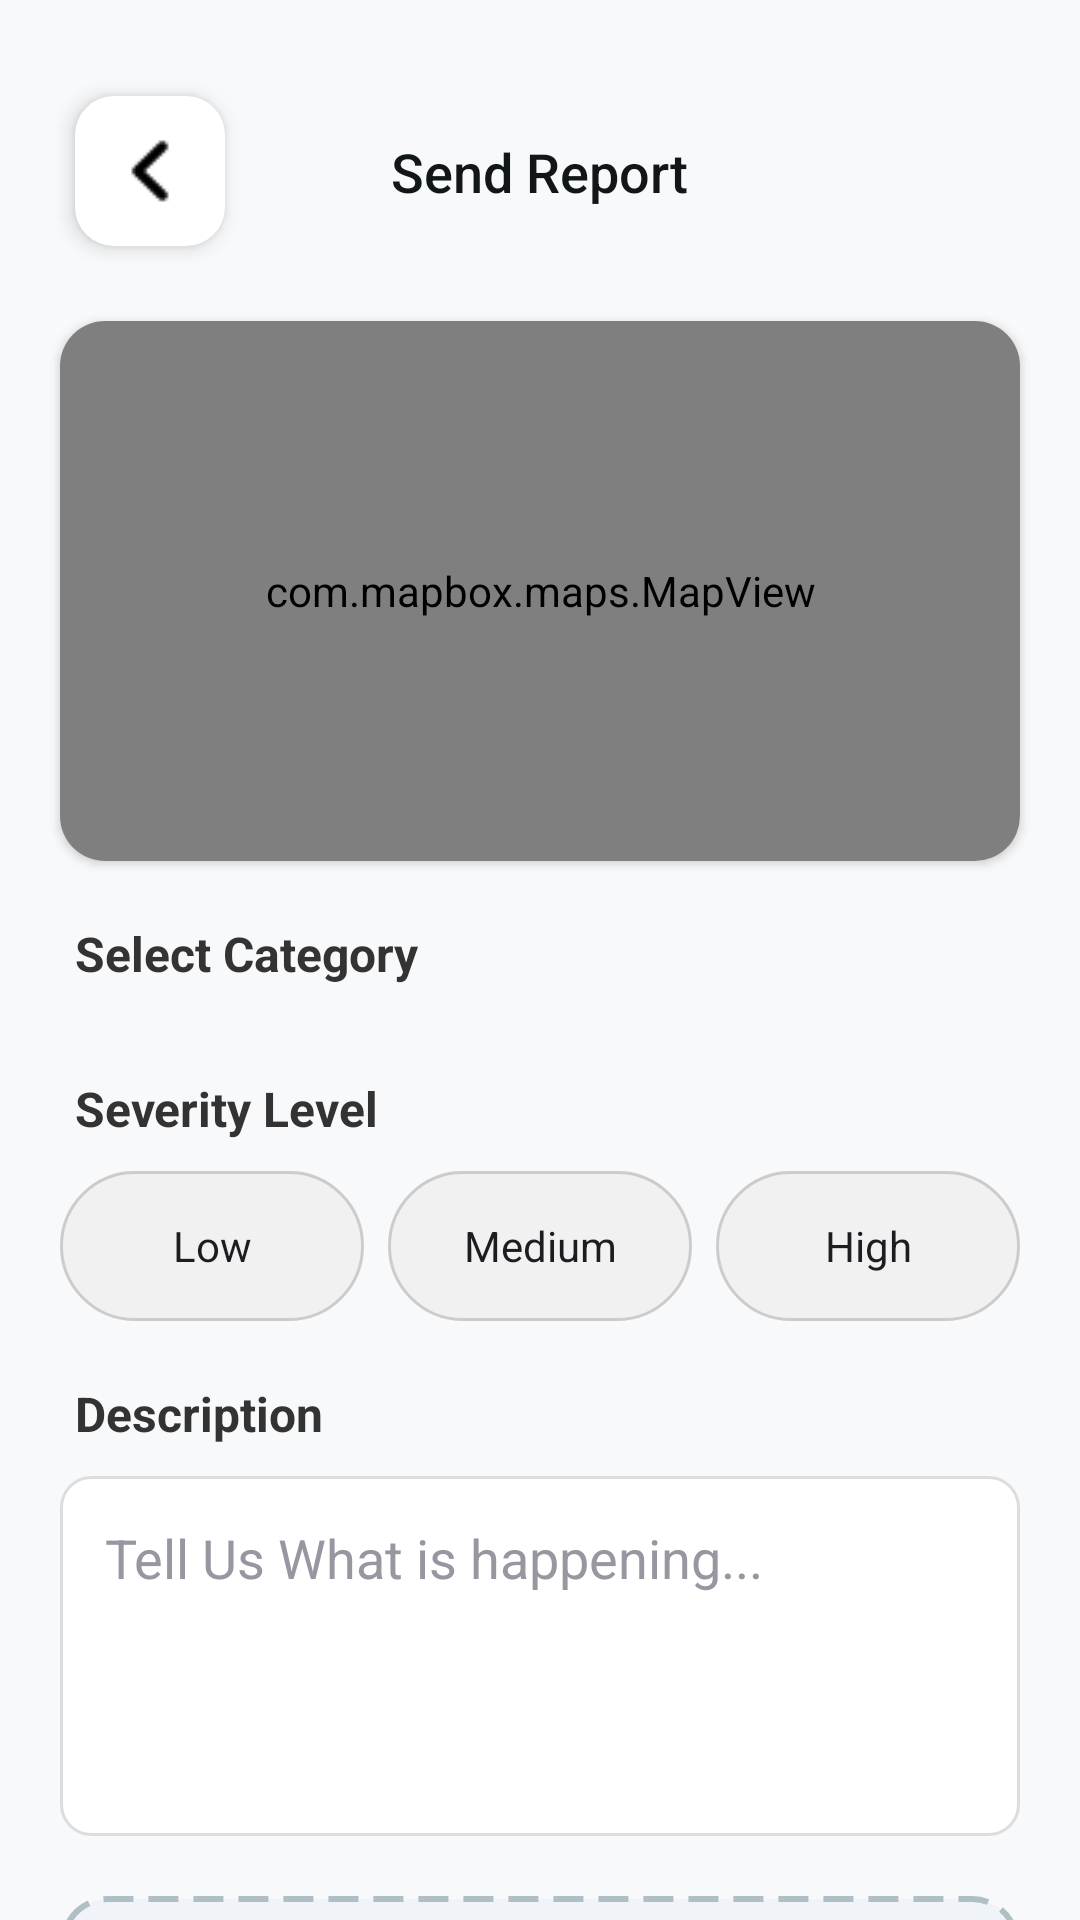

Screen size 1080×1920. Icon name, then its center in pixels as point (x, y):
back arrow: point (150, 171)
